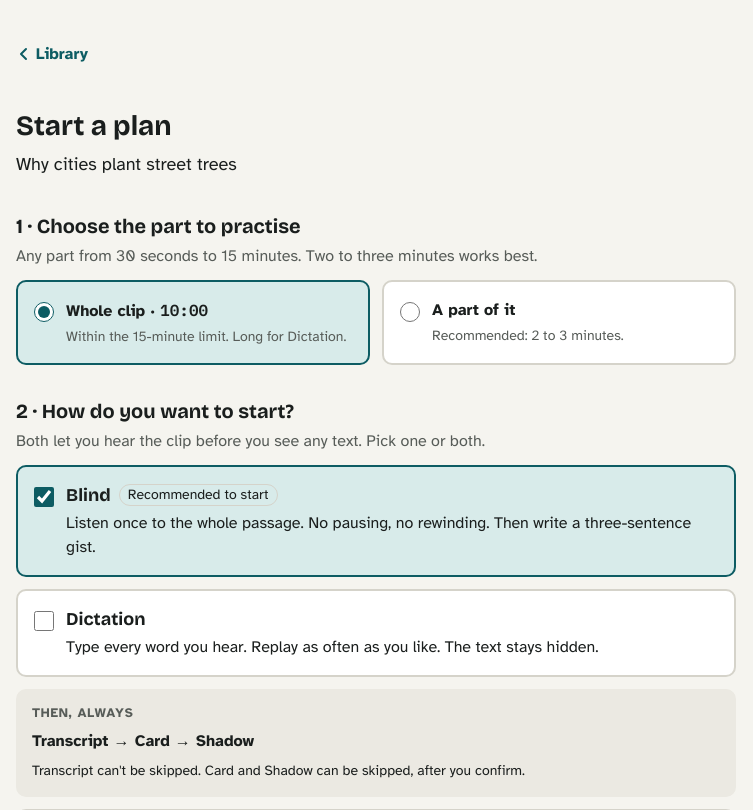
Test: with nothing ticked, the plan does not start and says why
What coordinates should you click on to do the following:
click the checkbox labelled "Blind"
I would click on:
 (44, 497)
Its box is [34,487,54,507].
(page scrolled)
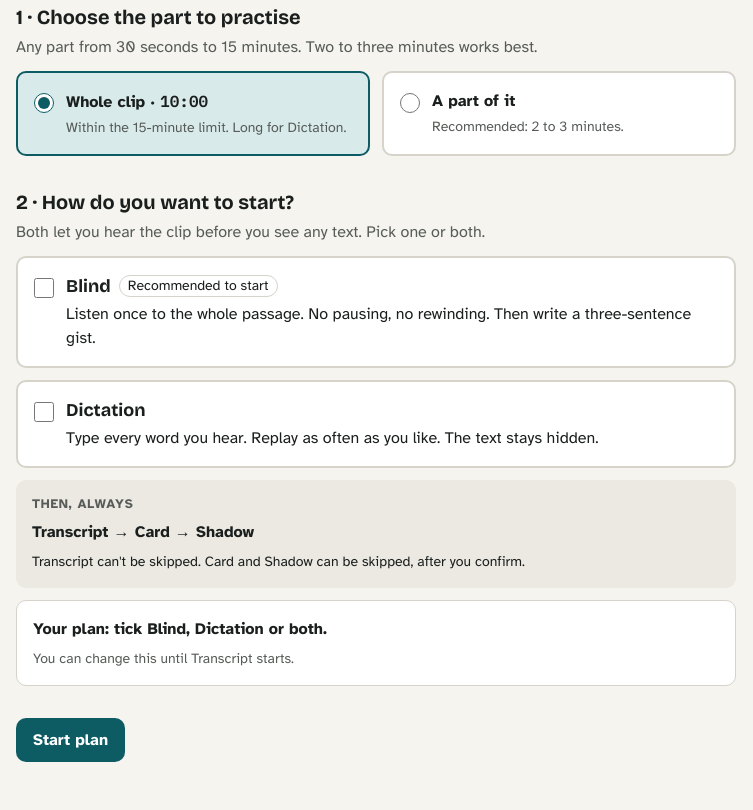
Now the text "Your plan: tick Blind, Dictation or both." is shown, box [33,619,327,639]
What coordinates should you click on to do the following:
click the button "Start plan"
I would click on:
 (71, 740)
Its box is [16,718,125,762].
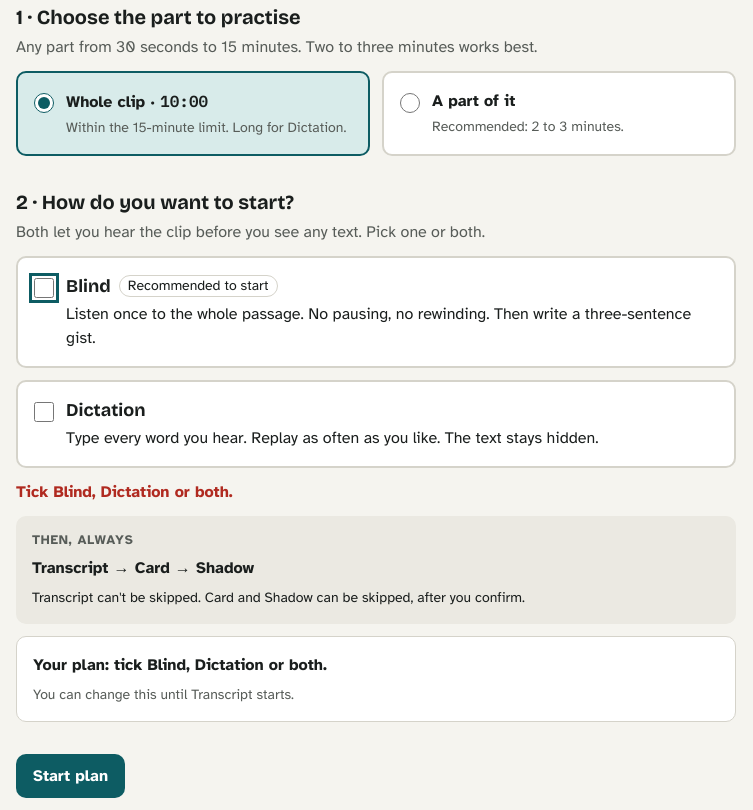
Now the text "Tick Blind, Dictation or both." is shown, box [16,482,233,502]
